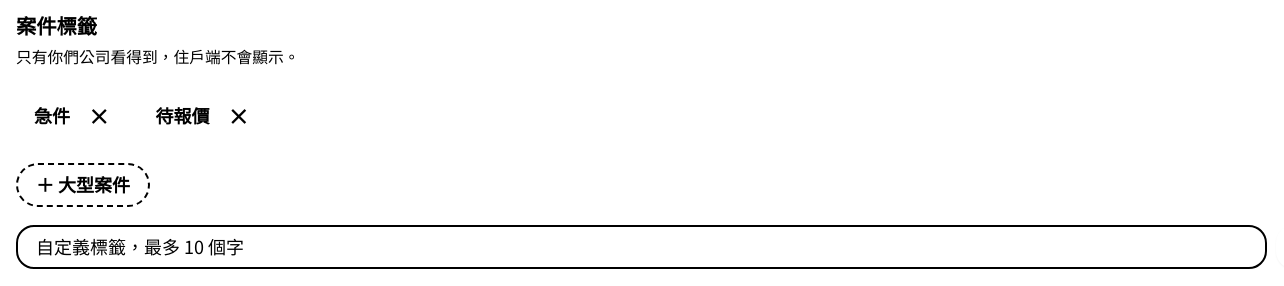
Test case: CaseTagEditor › 移除標籤時送出剩下的清單
Click the button named "移除標籤「急件」". click: (99, 115)
box: [74,90,124,140]
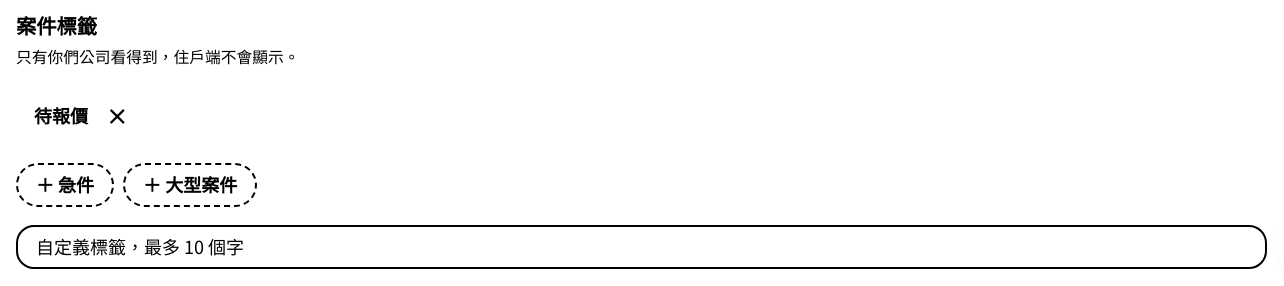
Now the button "＋ 急件" is shown, box [16,162,114,206]
